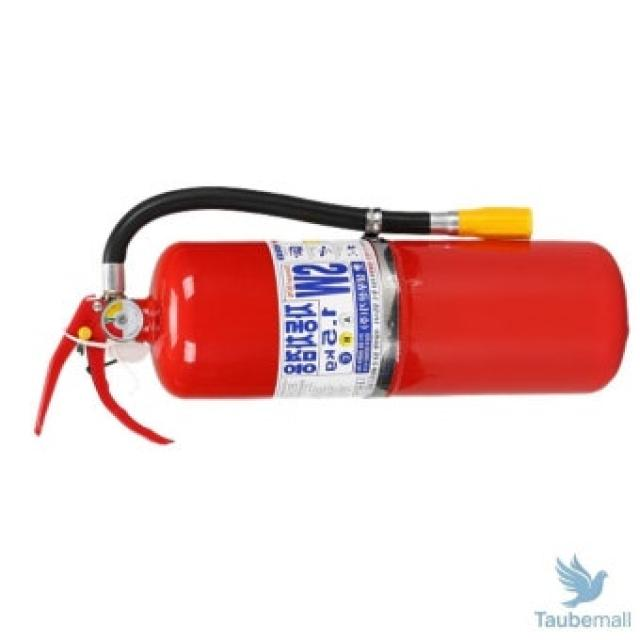pressure gauge: (104, 298, 144, 342)
